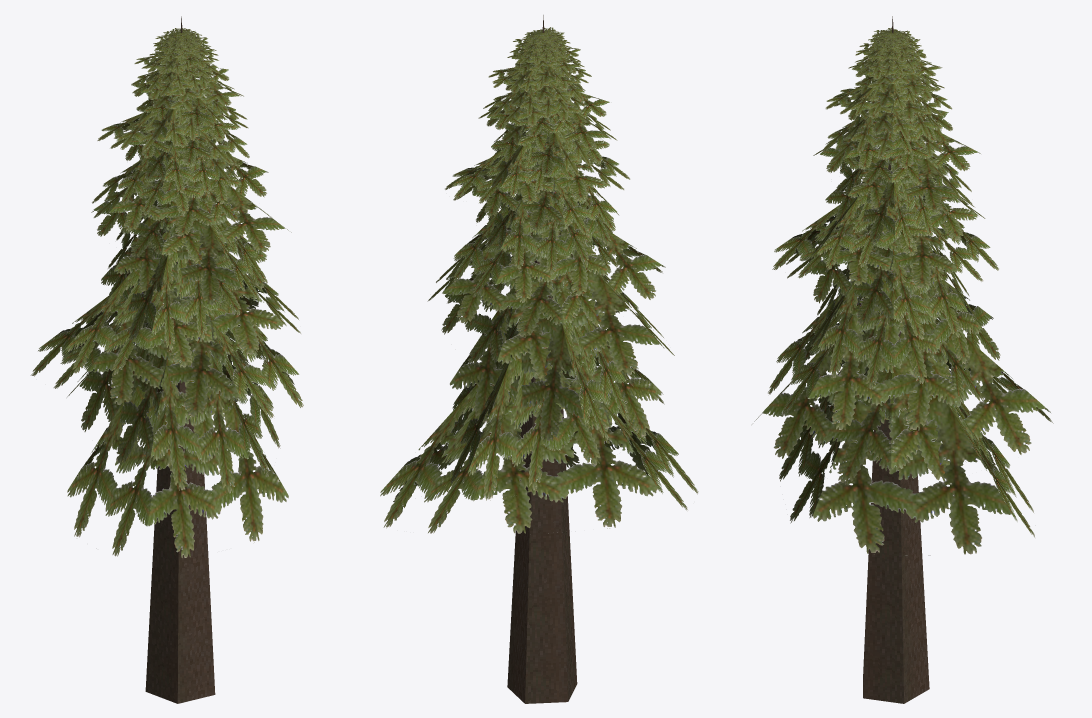
File: tree1.glb
The picture shows the model from 3 angles, left to right: view 1: azimuth 30°, elevation 25°; view 2: azimuth 150°, elevation 25°; view 3: azimuth 270°, elevation 25°; orthographic projection.
Visible parts, largest first — view 1: Tree2; view 2: Tree2; view 3: Tree2.
Boxes of the visible parts, box(x1,y1,x2,y2) form: Tree2: box(30, 16, 303, 703); Tree2: box(380, 15, 698, 703); Tree2: box(754, 16, 1053, 703).
Bounding box in the file's own units: 4.04 × 10.1 × 4.65.
Materials: 2 (2 with a texture image).
